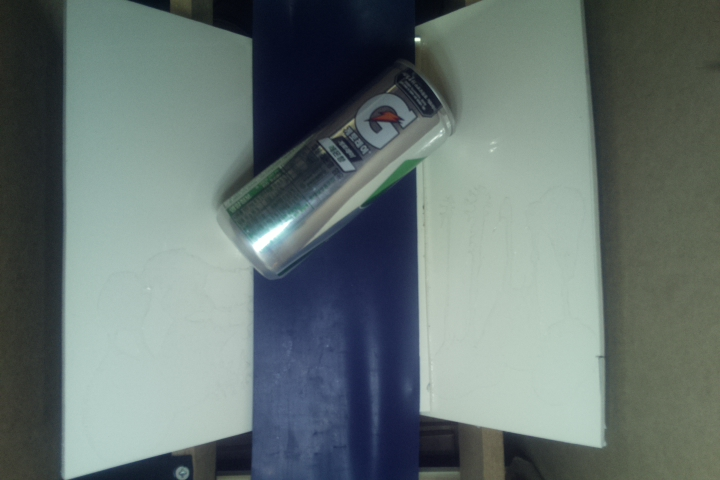can: (216, 57, 459, 285)
